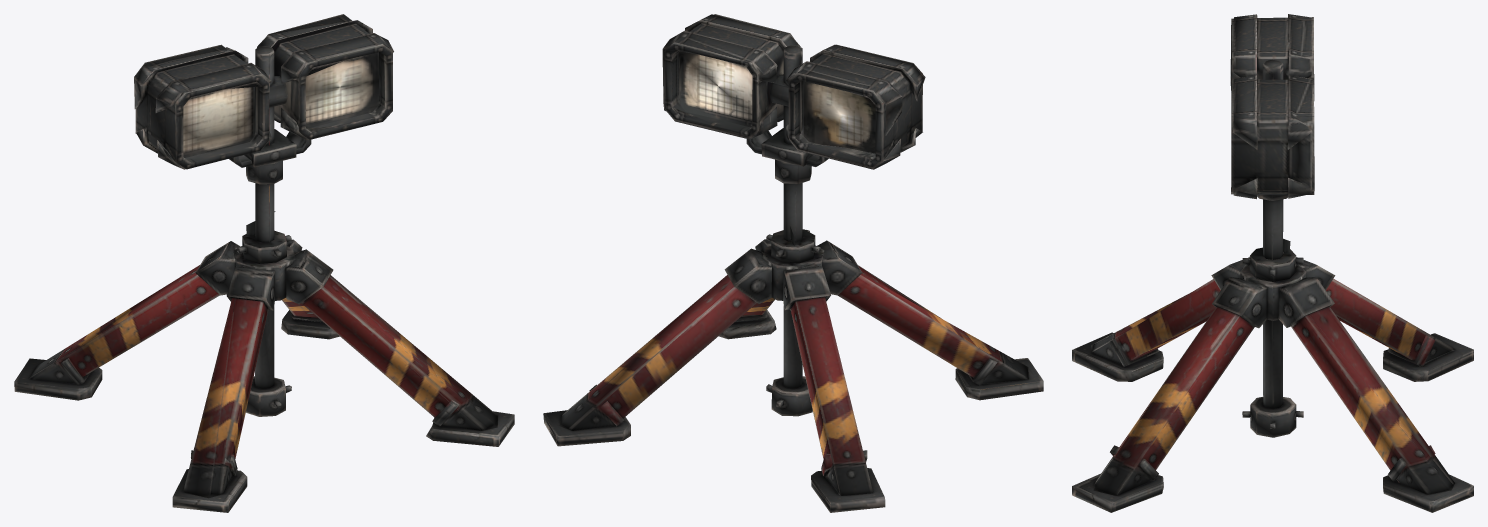
Rendered from floodlight.glb.
3 renders of one model, left to right at view 1: azimuth 30°, elevation 25°; view 2: azimuth 150°, elevation 25°; view 3: azimuth 270°, elevation 25°, orthographic.
Bounding box in the file's own units: 1 × 1 × 1.
1 material, 1 textured.
